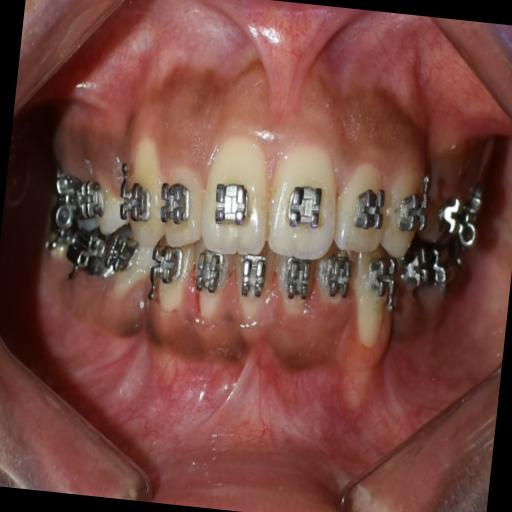correct_brace: (210, 176, 252, 232), (285, 179, 328, 233), (116, 174, 152, 228), (351, 186, 390, 230), (398, 188, 430, 236), (157, 182, 191, 226)
incorrect_brace: (334, 163, 388, 255), (158, 152, 206, 248)
